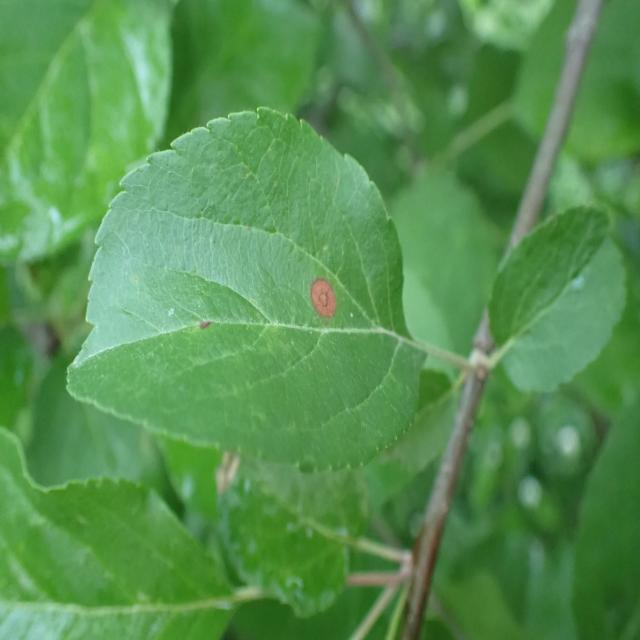Black Rot: (291, 240, 349, 344)
